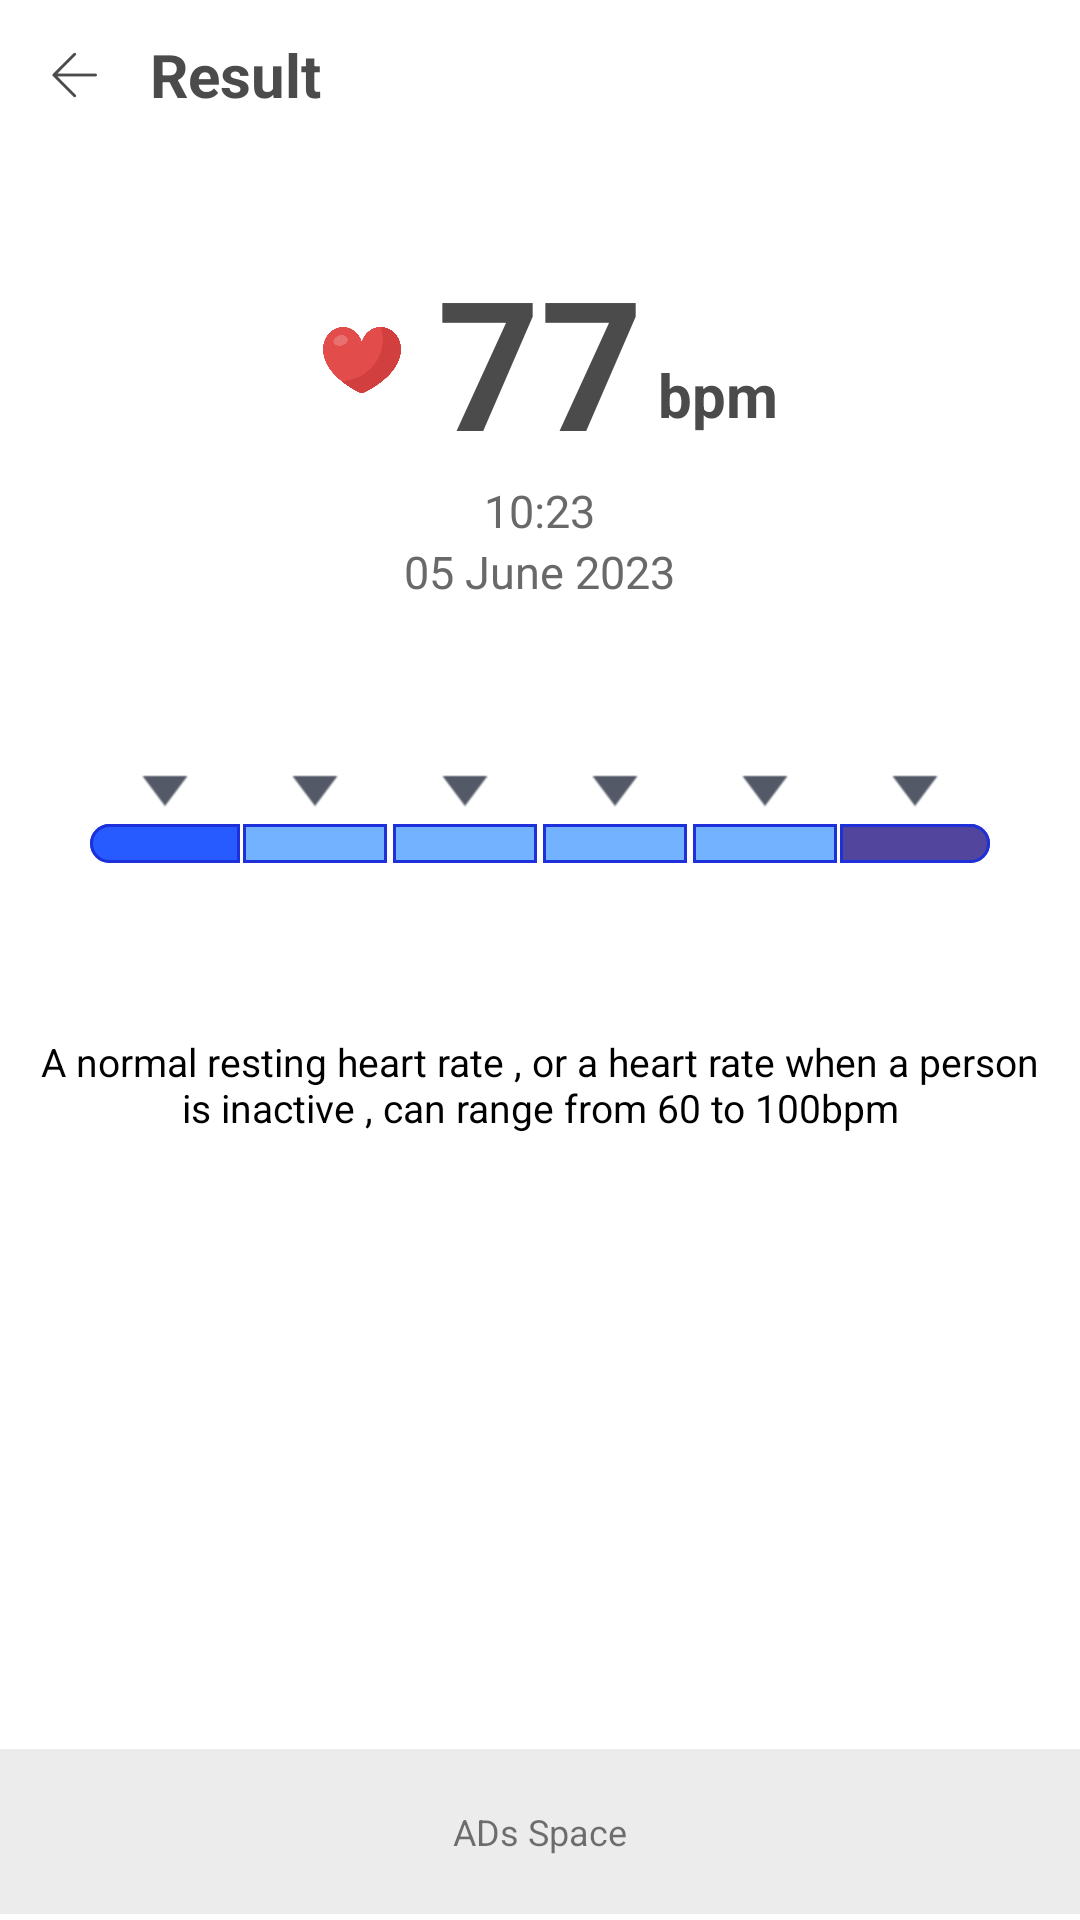

Point at icon controls on the screen. Image size 1080px×1920px, points as (x=x, y=y).
back: (x=74, y=75)
